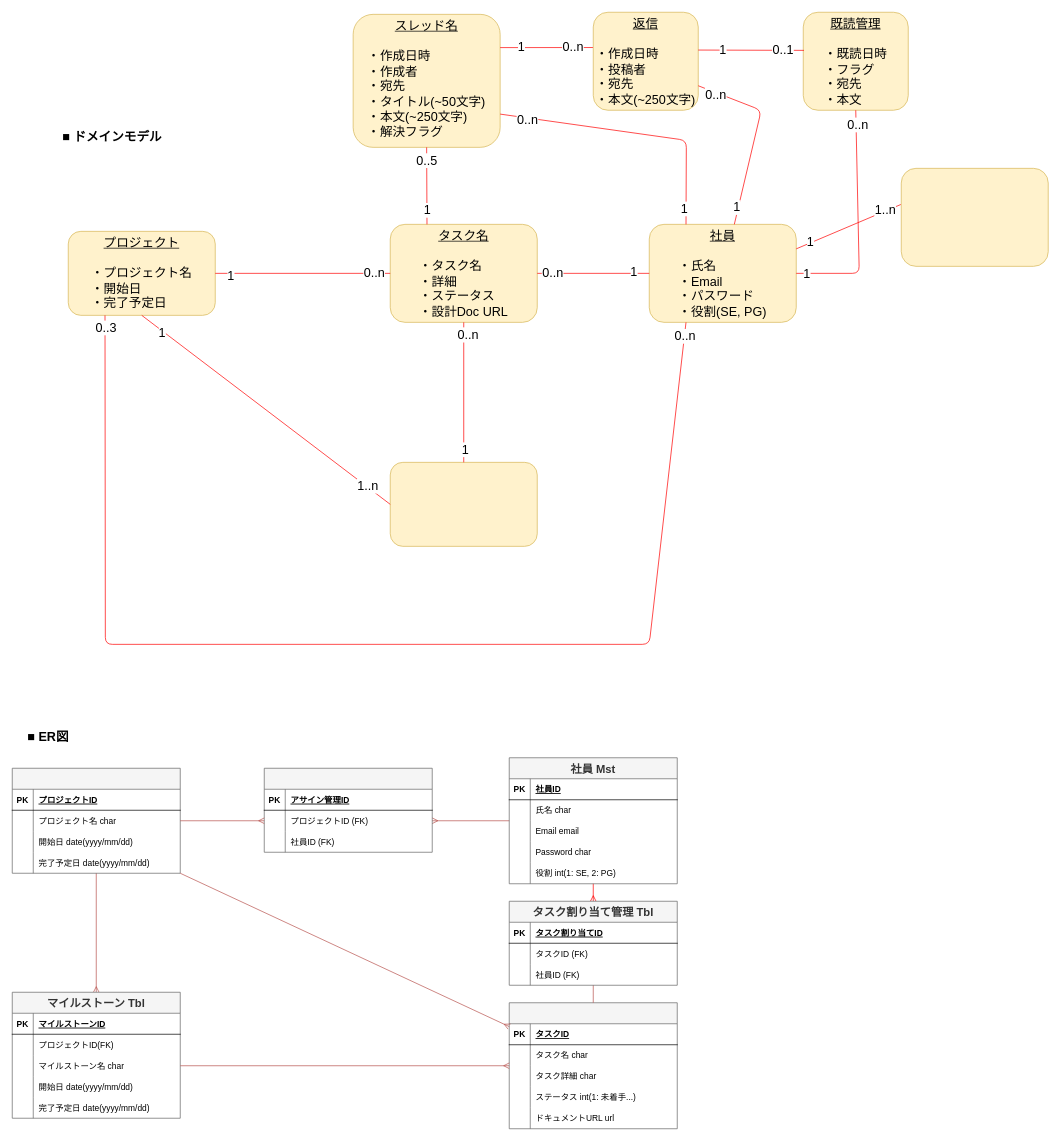
Image size: 1061x1141. Some labels were removed from this diagram. Here are the shapes that lost their labels. From the top down, the box of each, then its label:
(901, 168, 1048, 266): 通知先 ・ツール ・アカウント情報
(390, 462, 537, 546): マイルストーン ・マイルストーン名 ・開始日 ・完了予定日
(12, 768, 180, 873): プロジェクト Mst
(264, 768, 432, 852): アサイン管理 Tbl
(509, 1002, 677, 1129): タスク Tbl
